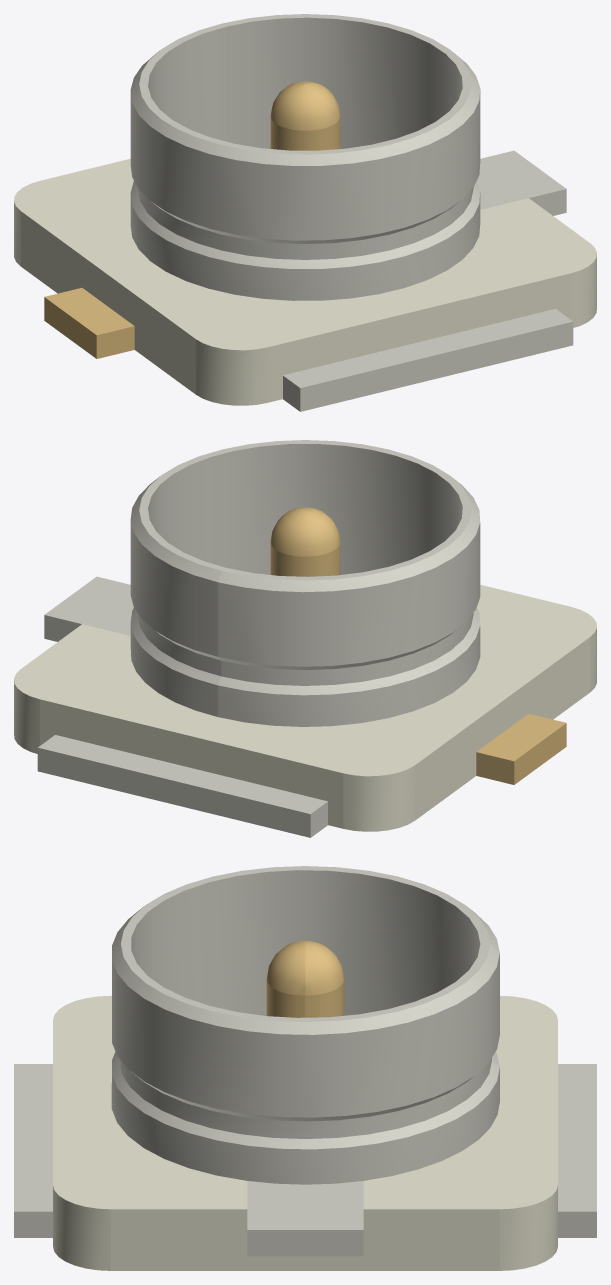
Rendered from sfe-u.fl.glb.
The picture shows the model from 3 angles, top to bottom: view 1: azimuth 30°, elevation 25°; view 2: azimuth 150°, elevation 25°; view 3: azimuth 270°, elevation 25°; orthographic projection. The views are drawn at different scales.
Visible parts, largest first — view 1: 0.6666666666666666_0.6666666666666666_0.5833333333333334_0.8, 0.75_0.75_0.6666666666666666_0, 0.75_0.5_0.25_0.9; view 2: 0.6666666666666666_0.6666666666666666_0.5833333333333334_0.8, 0.75_0.75_0.6666666666666666_0, 0.75_0.5_0.25_0.9; view 3: 0.6666666666666666_0.6666666666666666_0.5833333333333334_0.8, 0.75_0.75_0.6666666666666666_0, 0.75_0.5_0.25_0.9.
Part boxes in pixels (left/top/right/bottom): 0.6666666666666666_0.6666666666666666_0.5833333333333334_0.8: left=130, top=14, right=573, bottom=411; 0.75_0.75_0.6666666666666666_0: left=14, top=158, right=596, bottom=405; 0.75_0.5_0.25_0.9: left=44, top=81, right=340, bottom=358; 0.6666666666666666_0.6666666666666666_0.5833333333333334_0.8: left=37, top=440, right=480, bottom=837; 0.75_0.75_0.6666666666666666_0: left=14, top=584, right=596, bottom=831; 0.75_0.5_0.25_0.9: left=270, top=507, right=566, bottom=784; 0.6666666666666666_0.6666666666666666_0.5833333333333334_0.8: left=14, top=866, right=596, bottom=1256; 0.75_0.75_0.6666666666666666_0: left=53, top=995, right=557, bottom=1270; 0.75_0.5_0.25_0.9: left=266, top=940, right=344, bottom=1017.
Size of the model in its own units: 0.31 by 0.125 by 0.3.
